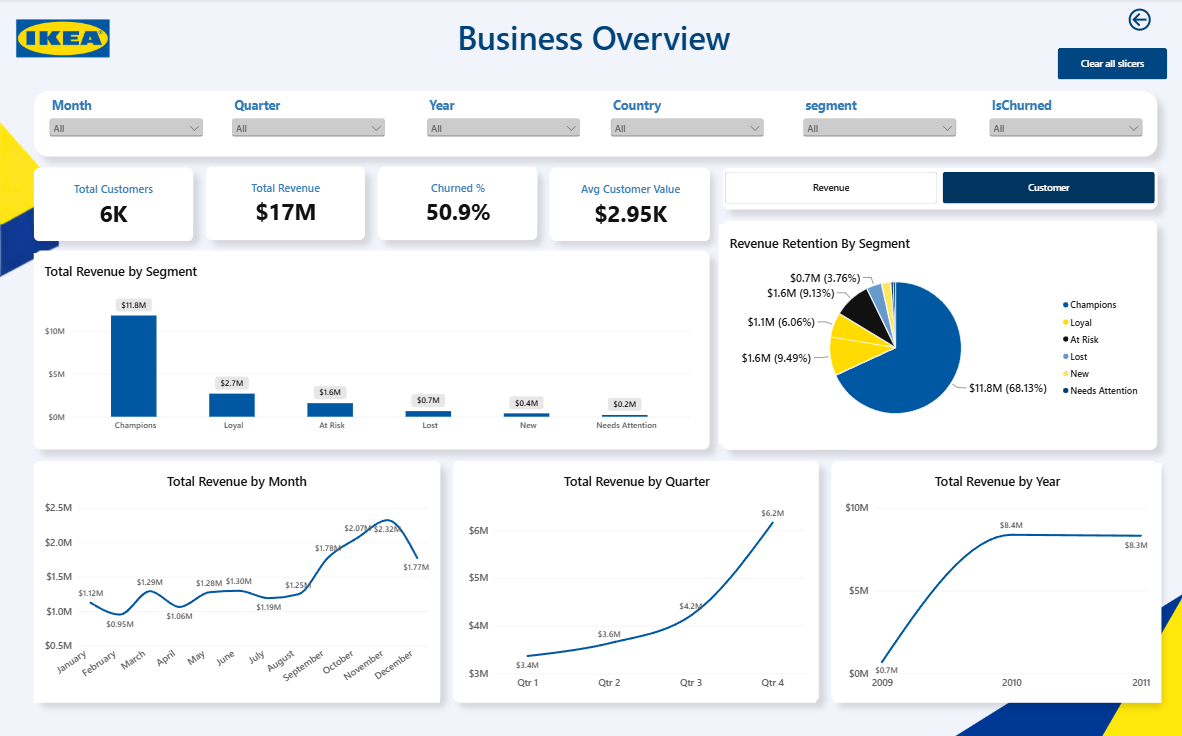

The page's visual inventory and layout, read from the dashboard file:
{"tool":"powerbi","page":{"name":"Overview","canvas":[1750,1100],"ordinal":1},"visuals":[{"type":"cardVisual","fields":{"Data":["Sheet1.Total Customers"]},"box":[49.8,250.7,235.9,108.7],"z":0},{"type":"columnChart","title":"Total Revenue by Segment","fields":{"Category":["Sheet1.segment"],"Y":["Sheet1.Total Revenue"]},"box":[49.8,376,984.3,282],"z":0,"group":"g1"},{"type":"cardVisual","fields":{"Data":["Sheet1.Avg Customer Value"]},"box":[812.8,250.7,234,108],"z":1000},{"type":"pieChart","title":"Revenue Retention By Segment","fields":{"Category":["Sheet1.segment"],"Series":["Sheet1.IsChurned"],"Y":["Sheet1.Total Revenue"]},"box":[1059.9,333.6,643.3,324.4],"z":1000,"group":"g1"},{"type":"cardVisual","fields":{"Data":["Sheet1.Churned %"]},"box":[558.5,248.8,234,108],"z":2000},{"type":"lineChart","title":"Total Revenue by Month","fields":{"Category":["Sheet1.InvoiceDate.Variation.Date Hierarchy.Month"],"Y":["Sheet1.Total Revenue"]},"box":[49.8,685.6,599,353.9],"z":2000,"group":"g1"},{"type":"cardVisual","fields":{"Data":["Sheet1.Total Revenue"]},"box":[304.1,248.8,234,108],"z":3000},{"type":"lineChart","fields":{"Category":["Sheet1.InvoiceDate.Variation.Date Hierarchy.Quarter"],"Y":["Sheet1.Total Revenue"]},"box":[674.6,685.6,529,353.9],"z":3000,"group":"g1"},{"type":"slicer","fields":{"Values":["Sheet1.InvoiceDate.Variation.Date Hierarchy.Month"]},"box":[68.2,145.6,235.9,81.1],"z":4000},{"type":"lineChart","fields":{"Category":["Sheet1.InvoiceDate.Variation.Date Hierarchy.Year"],"Y":["Sheet1.Total Revenue"]},"box":[1229.4,685.6,482.9,353.9],"z":4000,"group":"g1"},{"type":"slicer","fields":{"Values":["Sheet1.IsChurned"]},"box":[1454.3,145.6,235,81.1],"z":5000},{"type":"slicer","fields":{"Values":["Sheet1.segment"]},"box":[1179.6,145.6,235,81],"z":6000},{"type":"slicer","fields":{"Values":["Sheet1.Country"]},"box":[895.8,145.6,235,81],"z":7000},{"type":"slicer","fields":{"Values":["Sheet1.InvoiceDate.Variation.Date Hierarchy.Year"]},"box":[624.8,145.6,235,81],"z":8000},{"type":"slicer","fields":{"Values":["Sheet1.InvoiceDate.Variation.Date Hierarchy.Quarter"]},"box":[337.3,145.6,235,81],"z":9000},{"type":"image","box":[0,0,186.3,119.5],"z":10000},{"type":"textbox","box":[589.4,24.3,571.2,74.9],"z":11000},{"type":"actionButton","box":[1624.7,0,113.5,63.9],"z":12000},{"type":"actionButton","box":[1559.3,73.7,162,46.6],"z":13000},{"type":"group","id":"g1","title":"Revenue","box":[49.8,333.6,1662.5,705.9],"z":15000},{"type":"bookmarkNavigator","box":[1069,256.2,643.3,49.8],"z":16000},{"type":"bookmarkNavigator","box":[1069,256.2,634.1,47.9],"z":17000}]}

Visuals, with their boxes in screenshot pixels (x1, y1, x2, y2), scaled from the page's 1750x1100 canvas onto the 1182x736 screenshot:
cardVisual - Sheet1.Total Customers: (left=34, top=168, right=193, bottom=240)
"Total Revenue by Segment" columnChart: (left=34, top=252, right=698, bottom=440)
cardVisual - Sheet1.Avg Customer Value: (left=549, top=168, right=707, bottom=240)
"Revenue Retention By Segment" pieChart: (left=716, top=223, right=1150, bottom=440)
cardVisual - Sheet1.Churned %: (left=377, top=166, right=535, bottom=239)
"Total Revenue by Month" lineChart: (left=34, top=459, right=438, bottom=696)
cardVisual - Sheet1.Total Revenue: (left=205, top=166, right=363, bottom=239)
lineChart - Sheet1.InvoiceDate.Variation.Date Hierarchy.Quarter x Sheet1.Total Revenue: (left=456, top=459, right=813, bottom=696)
slicer - Sheet1.InvoiceDate.Variation.Date Hierarchy.Month: (left=46, top=97, right=205, bottom=152)
lineChart - Sheet1.InvoiceDate.Variation.Date Hierarchy.Year x Sheet1.Total Revenue: (left=830, top=459, right=1157, bottom=696)
slicer - Sheet1.IsChurned: (left=982, top=97, right=1141, bottom=152)
slicer - Sheet1.segment: (left=797, top=97, right=955, bottom=152)
slicer - Sheet1.Country: (left=605, top=97, right=764, bottom=152)
slicer - Sheet1.InvoiceDate.Variation.Date Hierarchy.Year: (left=422, top=97, right=581, bottom=152)
slicer - Sheet1.InvoiceDate.Variation.Date Hierarchy.Quarter: (left=228, top=97, right=387, bottom=152)
image: (left=0, top=0, right=126, bottom=80)
textbox: (left=398, top=16, right=784, bottom=66)
actionButton: (left=1097, top=0, right=1174, bottom=43)
actionButton: (left=1053, top=49, right=1163, bottom=80)
"Revenue" group: (left=34, top=223, right=1157, bottom=696)
bookmarkNavigator: (left=722, top=171, right=1157, bottom=205)
bookmarkNavigator: (left=722, top=171, right=1150, bottom=203)
